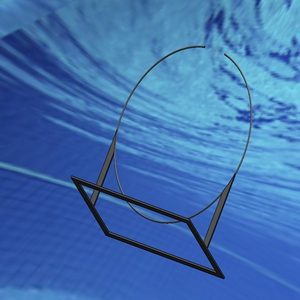circle: (68, 42, 255, 280), (111, 45, 250, 226)
